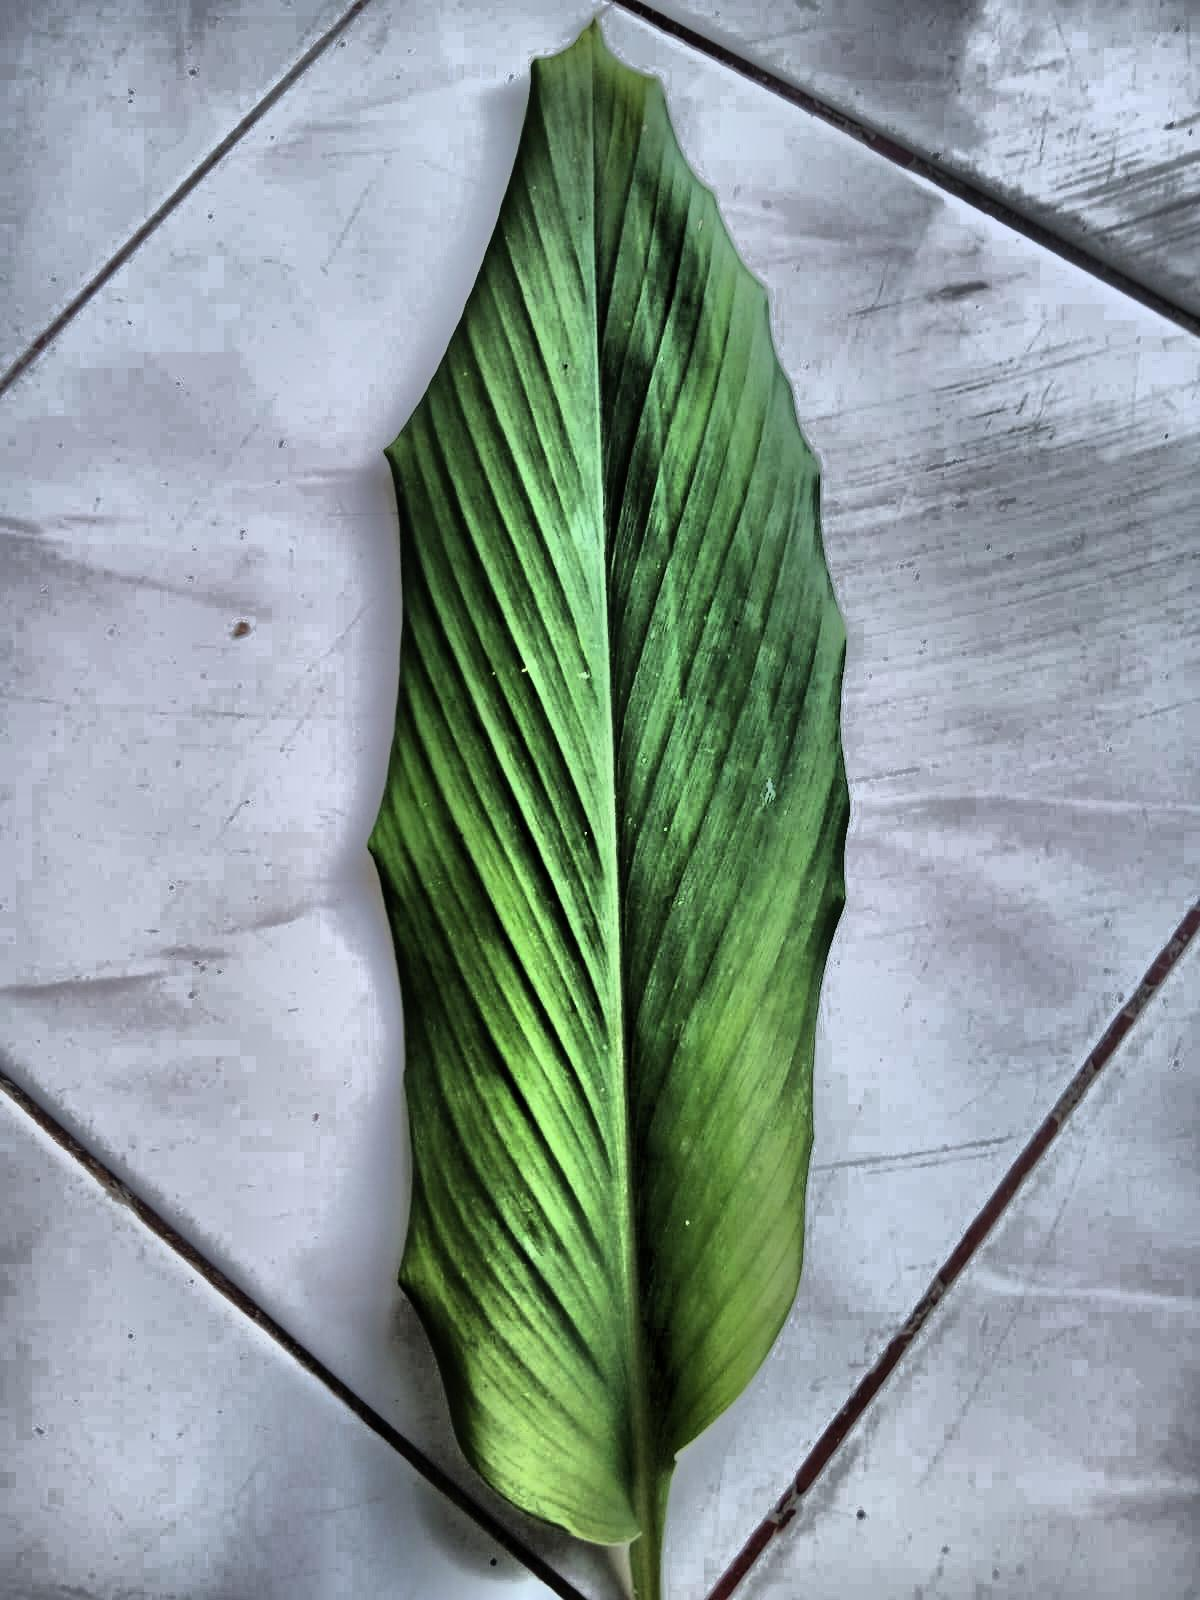daun kunyit: (369, 21, 850, 1599)
